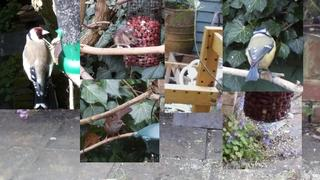blue tit: (244, 27, 276, 81)
dunnock: (103, 106, 133, 143)
goldfinch: (22, 27, 53, 109)
mouse: (98, 27, 138, 57)
